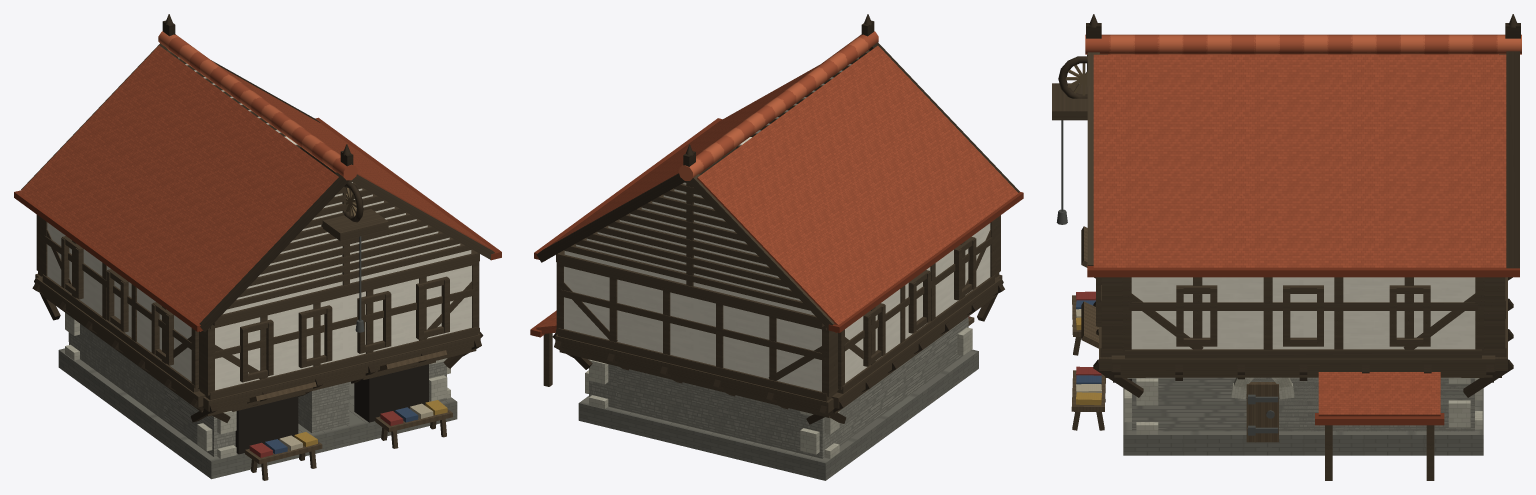
The model's file is rat-1-built.glb.
3 renders of one model, left to right at view 1: azimuth 30°, elevation 25°; view 2: azimuth 150°, elevation 25°; view 3: azimuth 270°, elevation 25°, orthographic. The views are drawn at different scales.
Size of the model in its own units: 18.25 by 16.11 by 18.5.
Materials: 38 (31 with a texture image).
